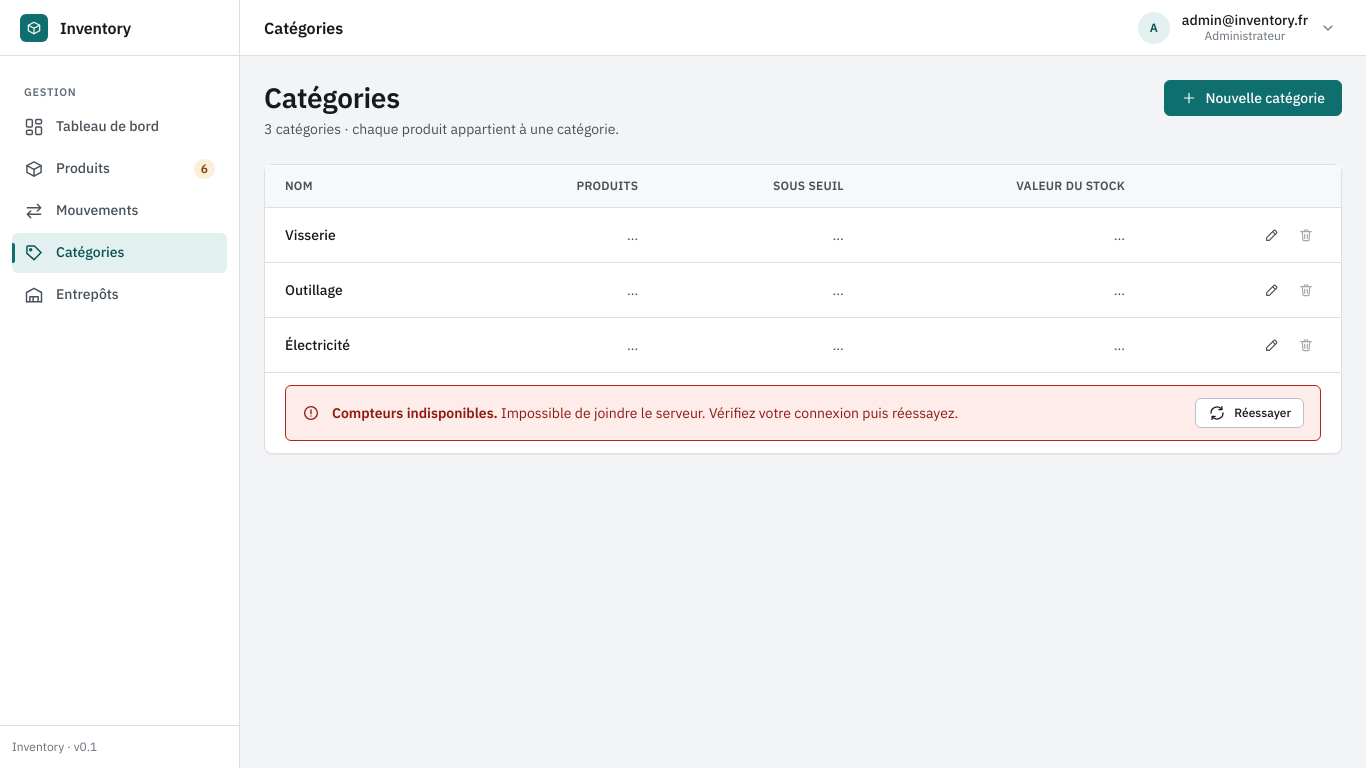
Test: CategoriesPage › table › keeps the categories when the counters cannot be loaded, and retries
This screenshot has width=1366, height=768.
expect the message shows "Compteurs indisponibles. Impossible de joindre le serveur. Vérifiez votre connexion puis réessayez.": met, box left=285, top=385, right=1321, bottom=441
expect the button named "Supprimer Visserie" is disabled: met, box left=1291, top=220, right=1321, bottom=250
Click the button "Réessayer" at (1250, 413), box left=1195, top=398, right=1304, bottom=428
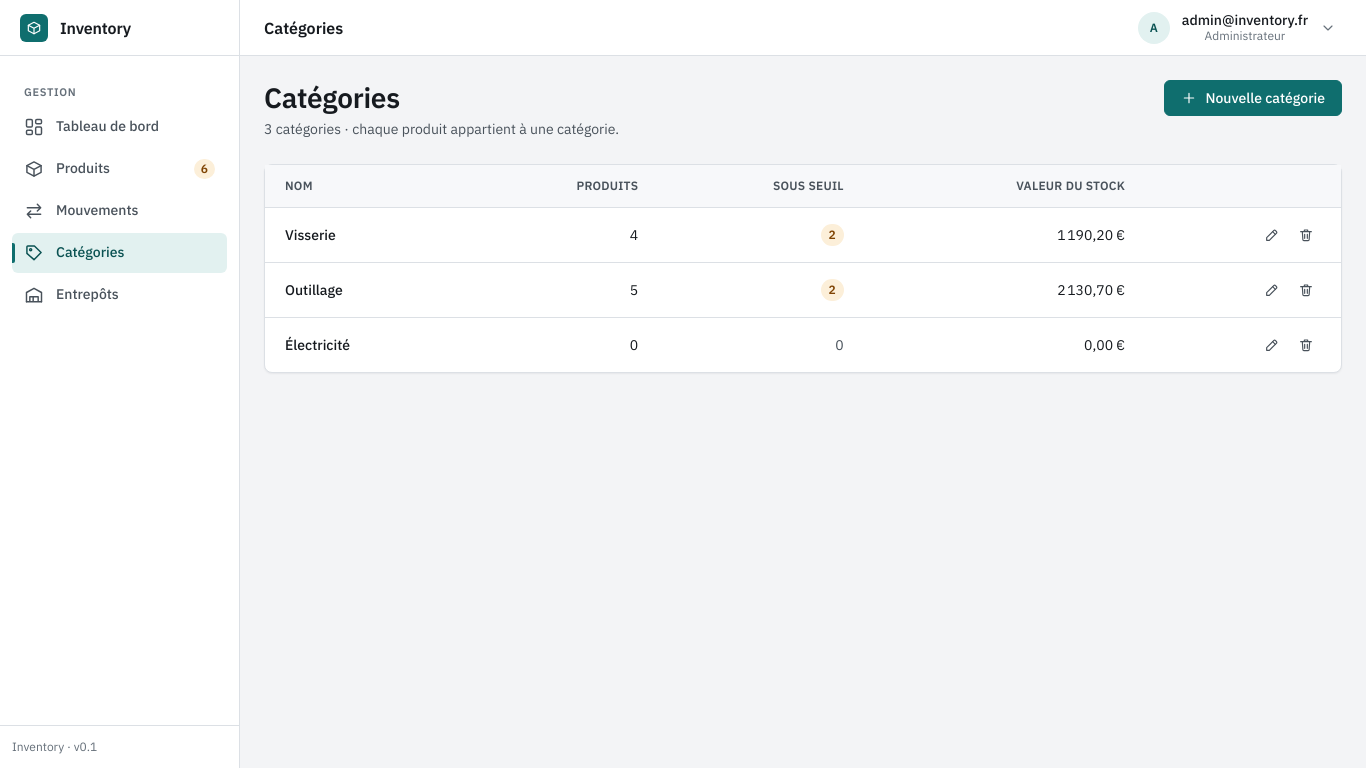
expect the message is gone: met
